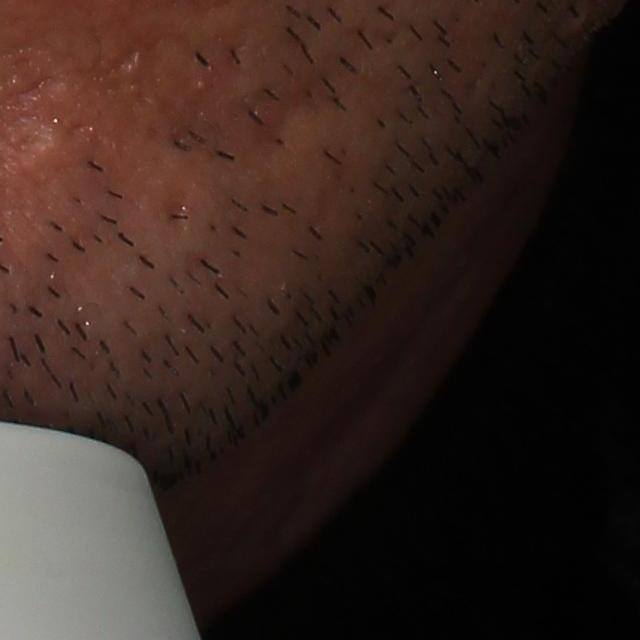atrophic_scar: (256, 83, 328, 165), (72, 48, 143, 101)
hypertrophic_scar: (16, 126, 84, 177)
